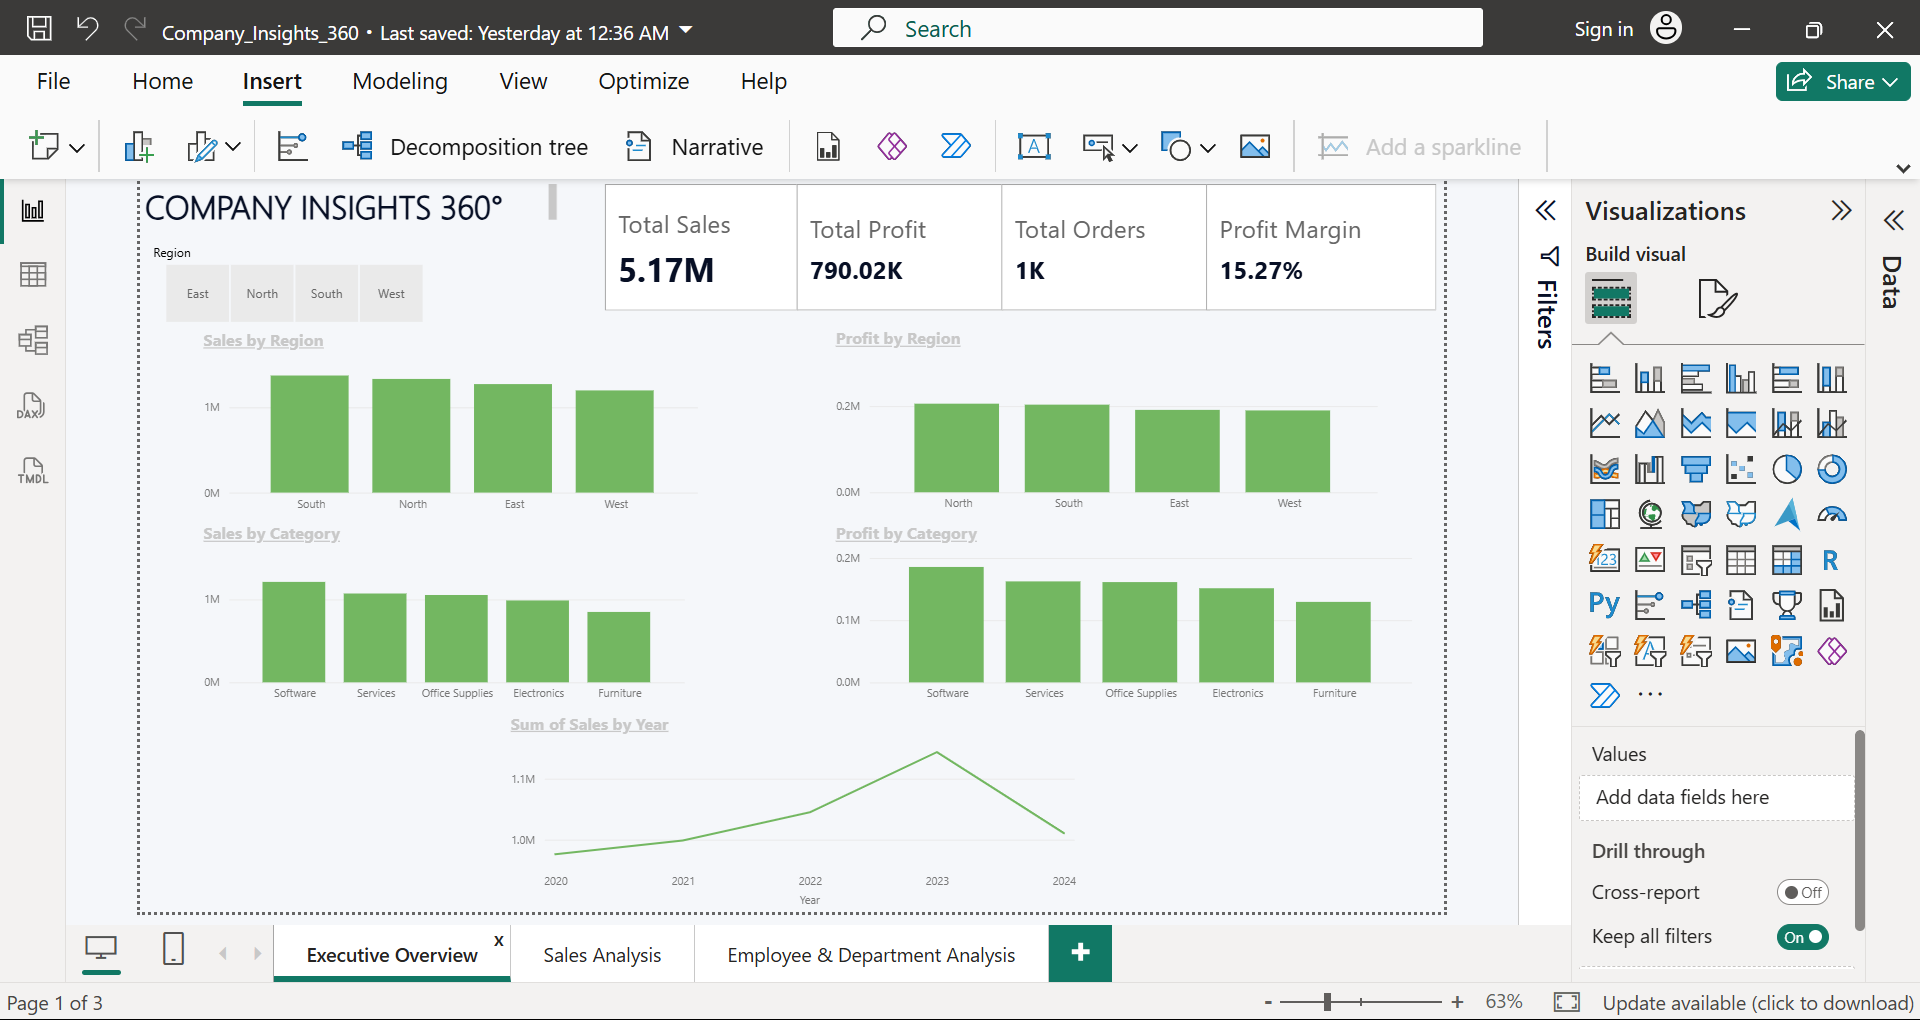

What the dashboard file says about the page in this screenshot:
{"tool":"powerbi","page":{"name":"Executive Overview","canvas":[1280,720],"ordinal":0},"visuals":[{"type":"cardVisual","fields":{"Data":["sales.Total Sales"]},"box":[452.2,0,201,134.6],"z":0},{"type":"cardVisual","fields":{"Data":["sales.Total Profit"]},"box":[640.6,0,213.5,134.6],"z":1000},{"type":"cardVisual","fields":{"Data":["sales.Total Orders"]},"box":[841.6,0,215.3,134.6],"z":2000},{"type":"cardVisual","fields":{"Data":["sales.Profit Margin"]},"box":[1042.6,0,236.9,134.6],"z":3000},{"type":"clusteredColumnChart","title":"Sales by Region","fields":{"Category":["sales.Region"],"Y":["Sum(sales.Sales)"]},"box":[57.4,147.2,495.3,190.2],"z":4000},{"type":"clusteredColumnChart","title":"Sales by Category","fields":{"Category":["sales.Category"],"Y":["Sum(sales.Sales)"]},"box":[57.4,337.4,482.7,186.6],"z":5000},{"type":"lineChart","fields":{"Category":["sales.Date.Variation.Date Hierarchy.Year","sales.Date.Variation.Date Hierarchy.Quarter","sales.Date.Variation.Date Hierarchy.Month","sales.Date.Variation.Date Hierarchy.Day"],"Y":["Sum(sales.Sales)"]},"box":[358.9,524,565.3,195.6],"z":6000},{"type":"clusteredColumnChart","title":"Profit by Region","fields":{"Category":["sales.Region"],"Y":["Sum(sales.Profit)"]},"box":[678.3,134.6,541.9,190.2],"z":7000},{"type":"clusteredColumnChart","title":"Profit by Category","fields":{"Category":["sales.Category"],"Y":["Sum(sales.Profit)"]},"box":[678.3,324.8,576,186.6],"z":8000},{"type":"textbox","box":[0,0,414.5,48.5],"z":8001},{"type":"slicer","fields":{"Values":["sales.Region"]},"box":[0,59.2,301.5,87.9],"z":8002}]}

Visuals, with their boxes on the page's 1280x720 design canvas (x1, y1, x2, y2). These are canvas units, not pixel positions in the 1920x1020 screenshot, which may show the page scaled, cropped or inside an application window:
cardVisual - sales.Total Sales: 452 0 653 135
cardVisual - sales.Total Profit: 641 0 854 135
cardVisual - sales.Total Orders: 842 0 1057 135
cardVisual - sales.Profit Margin: 1043 0 1280 135
"Sales by Region" clusteredColumnChart: 57 147 553 337
"Sales by Category" clusteredColumnChart: 57 337 540 524
lineChart - sales.Date.Variation.Date Hierarchy.Year x sales.Date.Variation.Date Hierarchy.Quarter: 359 524 924 720
"Profit by Region" clusteredColumnChart: 678 135 1220 325
"Profit by Category" clusteredColumnChart: 678 325 1254 511
textbox: 0 0 414 48
slicer - sales.Region: 0 59 302 147
